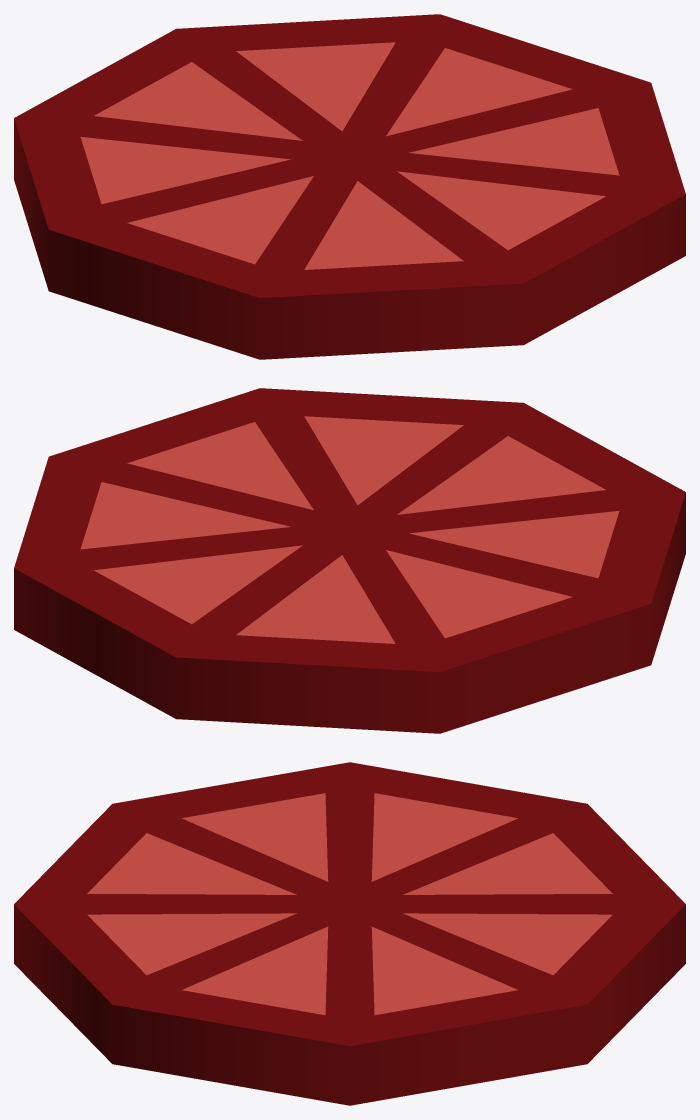
File: Tomato.FBX
3 views of the same model, one above another, from view 1: azimuth 30°, elevation 25°; view 2: azimuth 150°, elevation 25°; view 3: azimuth 270°, elevation 25° (orthographic). The views are drawn at different scales.
Visible parts, largest first — view 1: Cylinder003; view 2: Cylinder003; view 3: Cylinder003.
Boxes of the visible parts, x1,y1,x2,y2 form: Cylinder003: (14, 14, 685, 359); Cylinder003: (14, 388, 685, 733); Cylinder003: (14, 762, 685, 1105).
Bounding box in the file's own units: 29.15 × 2.85 × 29.15.
